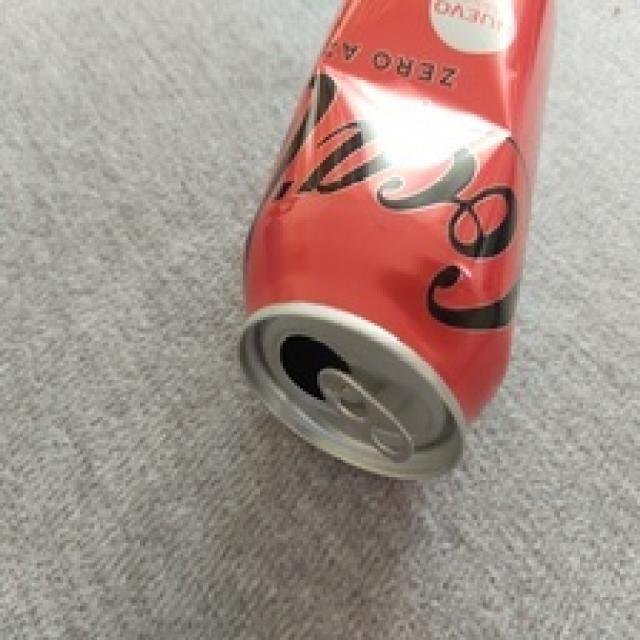recyclable: (236, 0, 559, 482)
